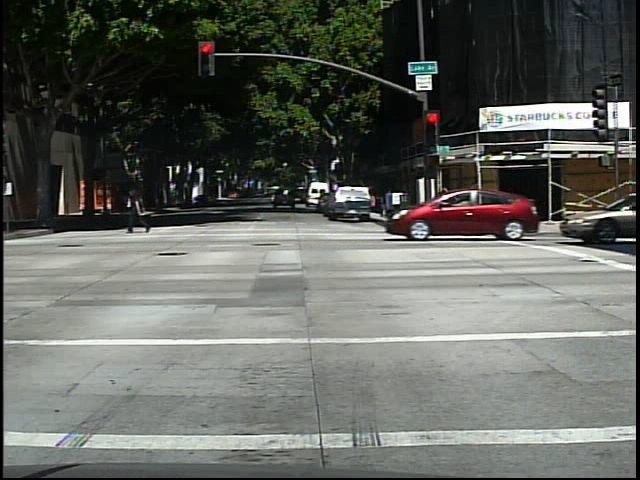person: (122, 183, 156, 236)
